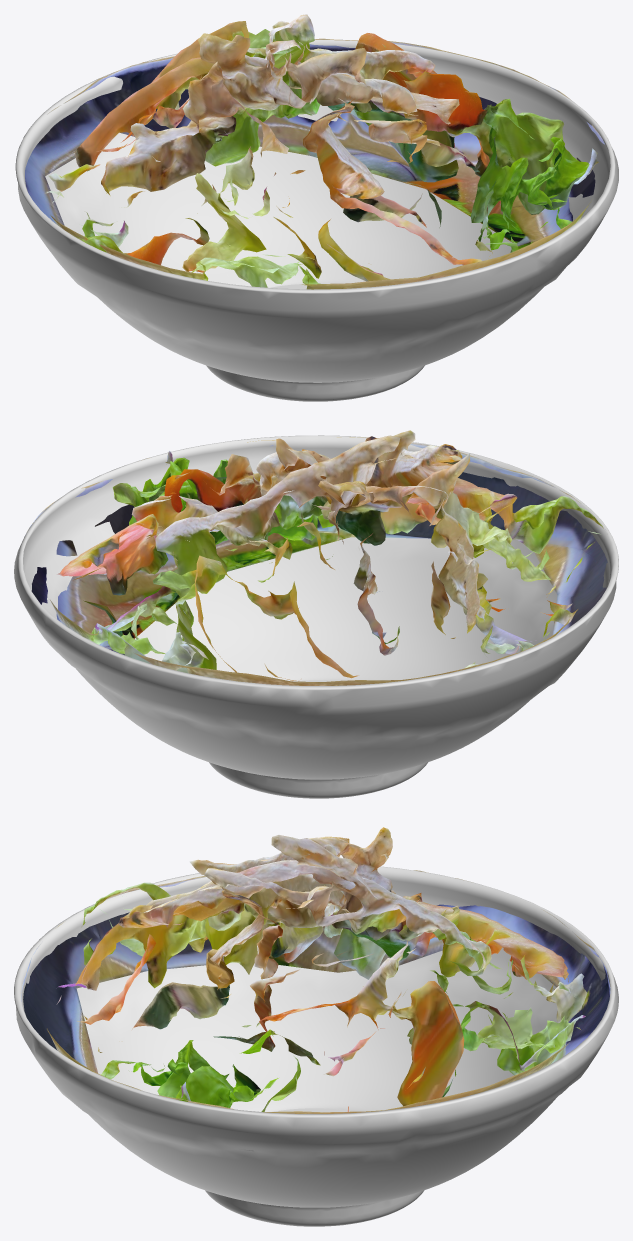
File: SaladaFrango.glb
3 renders of one model, top to bottom at view 1: azimuth 30°, elevation 25°; view 2: azimuth 150°, elevation 25°; view 3: azimuth 270°, elevation 25°, orthographic.
Parts seen in each view (by area): view 1: Bowl_Mesh, Mesh_0; view 2: Bowl_Mesh, Mesh_0; view 3: Bowl_Mesh, Mesh_0.
Boxes of the visible parts, bbox=[...] form: Bowl_Mesh: bbox=[15, 39, 618, 401]; Mesh_0: bbox=[25, 14, 604, 289]; Bowl_Mesh: bbox=[14, 435, 618, 798]; Mesh_0: bbox=[25, 430, 607, 685]; Bowl_Mesh: bbox=[14, 866, 618, 1226]; Mesh_0: bbox=[21, 827, 610, 1113].
Size of the model in its own units: 0.1857 by 0.1089 by 0.1855.
2 materials, 1 textured.
